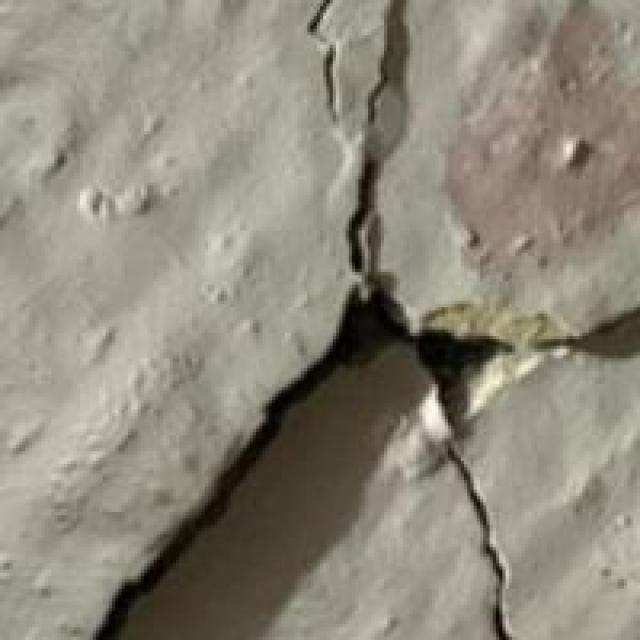Crack: (77, 6, 579, 637)
